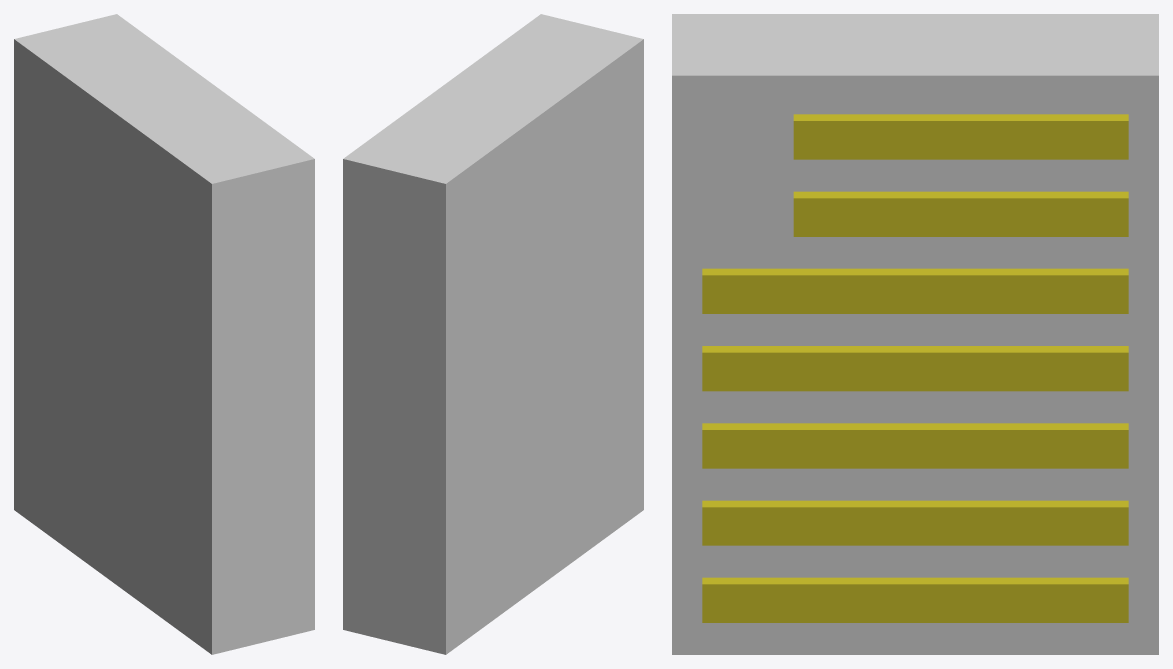
The model's file is note.fbx.
The picture shows the model from 3 angles, left to right: view 1: azimuth 30°, elevation 25°; view 2: azimuth 150°, elevation 25°; view 3: azimuth 270°, elevation 25°; orthographic projection. The views are drawn at different scales.
Parts seen in each view (by area): view 1: Cube; view 2: Cube; view 3: Cube.
Boxes of the visible parts, x1,y1,x2,y2 form: Cube: [14, 14, 314, 654]; Cube: [343, 14, 643, 654]; Cube: [672, 14, 1158, 654].
Size of the model in its own units: 66.48 by 263 by 200.
